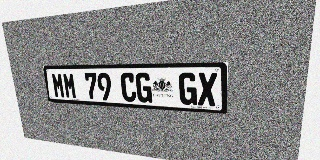7: (83, 73, 99, 100)
9: (97, 73, 112, 101)
C: (120, 73, 137, 102)
G: (179, 73, 197, 105), (135, 73, 152, 103)
M: (62, 73, 77, 99), (51, 73, 66, 98)
X: (198, 72, 217, 106)
